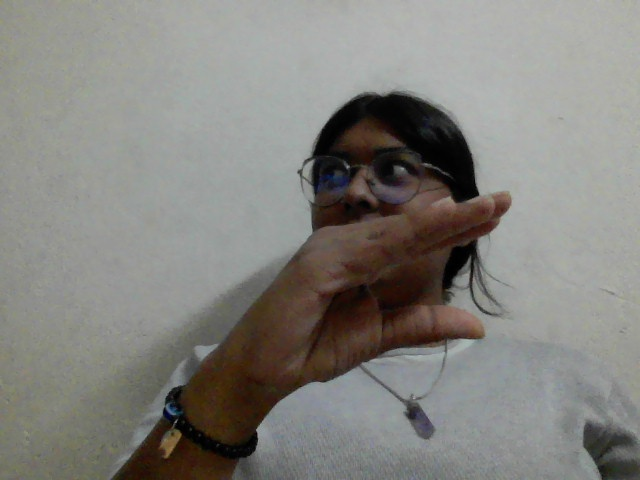no: (199, 182, 523, 422)
